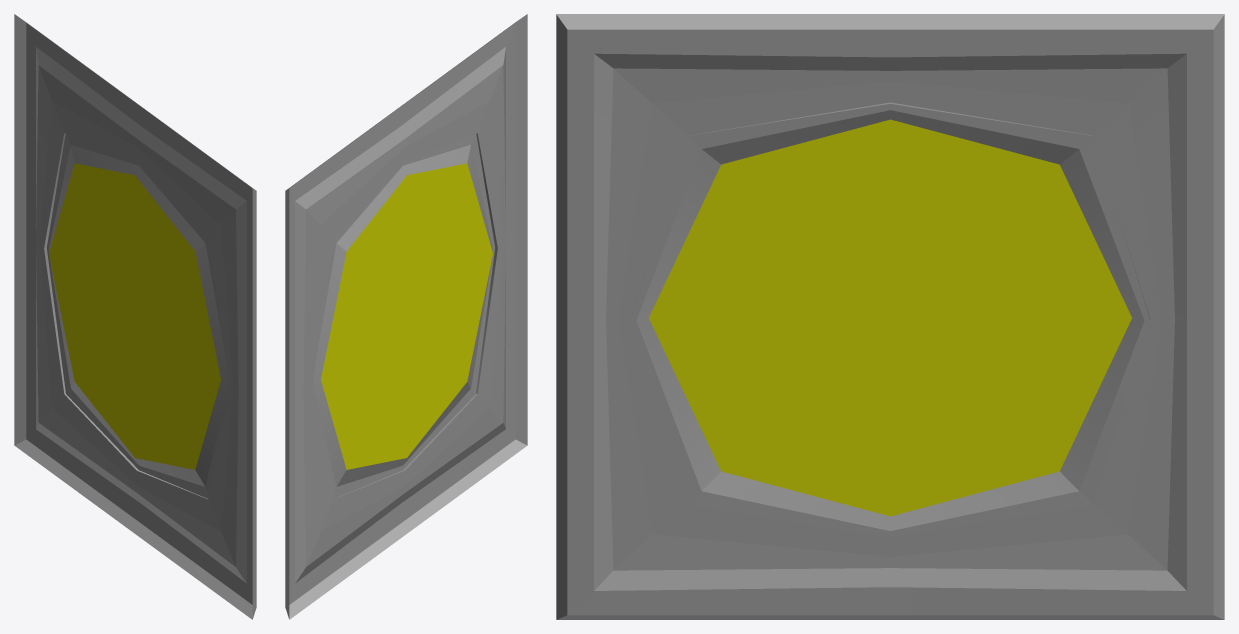
Rendered from Mesh_PictureFrame_c01.fbx.
The picture shows the model from 3 angles, left to right: view 1: azimuth 30°, elevation 25°; view 2: azimuth 150°, elevation 25°; view 3: azimuth 270°, elevation 25°; orthographic projection. The views are drawn at different scales.
Parts seen in each view (by area): view 1: Mesh_Picture_Frame_SquareCircle01; view 2: Mesh_Picture_Frame_SquareCircle01; view 3: Mesh_Picture_Frame_SquareCircle01.
Boxes of the visible parts, x1,y1,x2,y2 form: Mesh_Picture_Frame_SquareCircle01: [14, 14, 256, 619]; Mesh_Picture_Frame_SquareCircle01: [285, 14, 527, 619]; Mesh_Picture_Frame_SquareCircle01: [556, 14, 1224, 619].
Bounding box in the file's own units: 0.2655 × 13.94 × 13.94.
